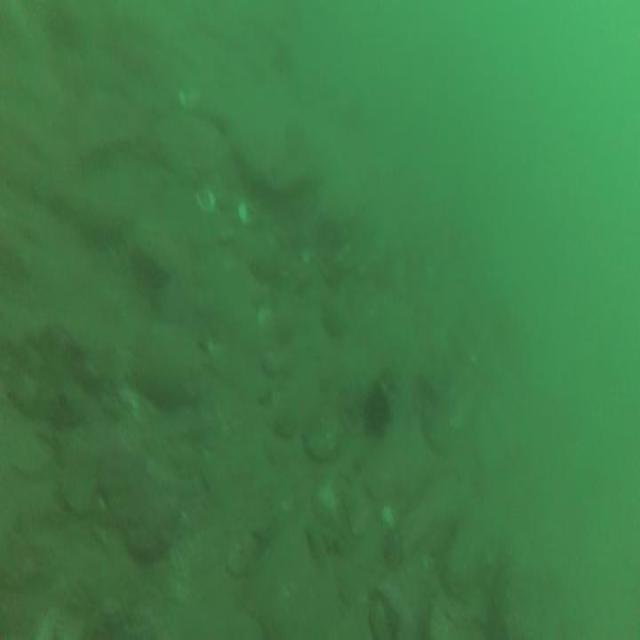echinus: (363, 387, 388, 441)
